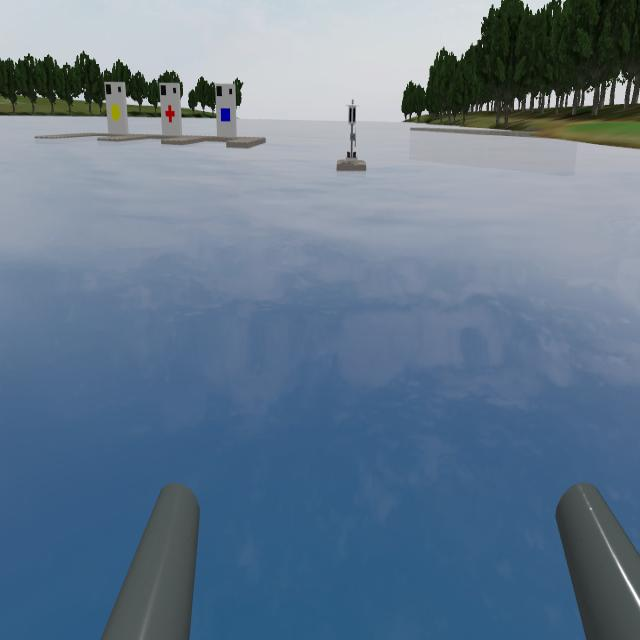black_pole: (346, 95, 360, 135)
